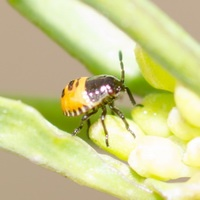insect: (61, 51, 140, 146)
